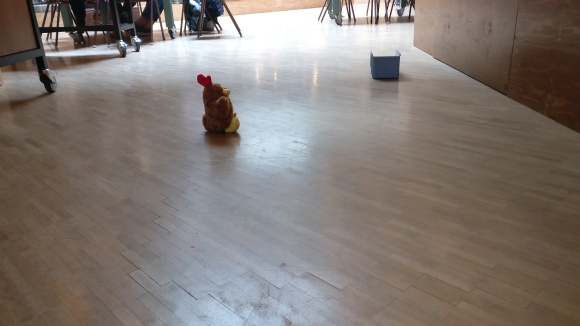chicken: (195, 72, 241, 135)
tray: (367, 48, 403, 82)
